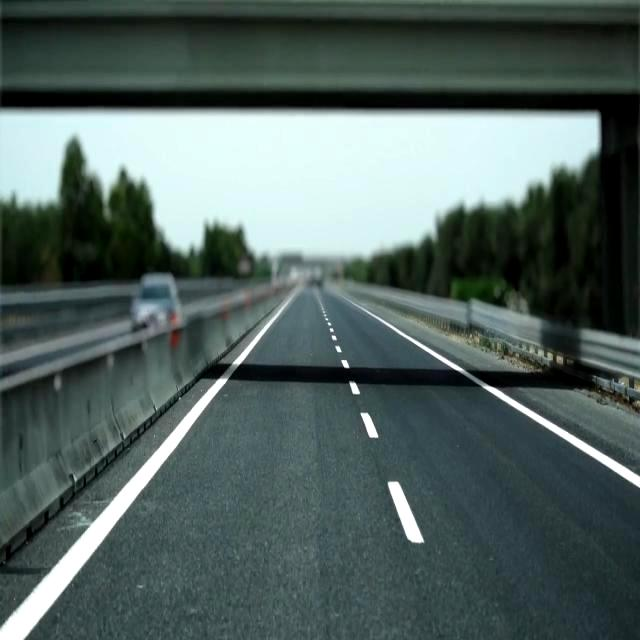lane: (0, 286, 302, 640), (345, 299, 640, 488), (388, 480, 422, 544), (361, 412, 378, 438)
road: (26, 288, 639, 639), (0, 330, 258, 622), (391, 317, 639, 471)
